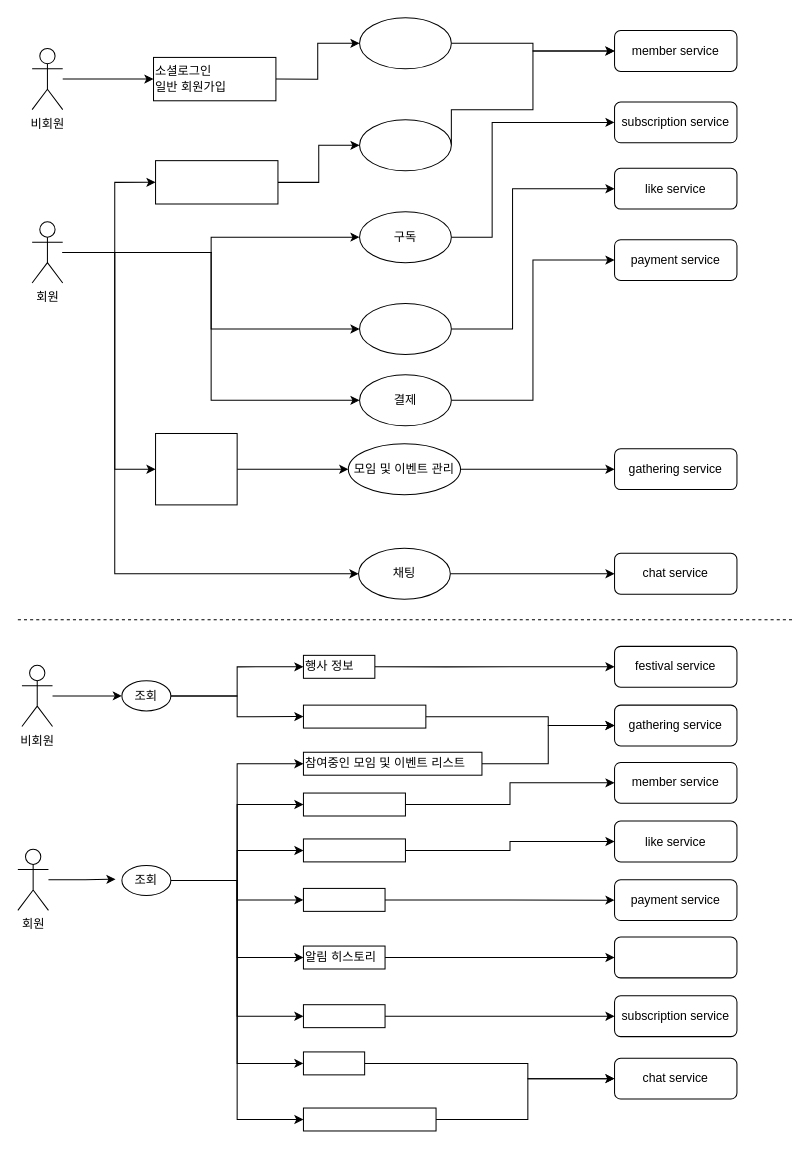
Image size: 812x1150. Some labels were removed from this diagram. Here are the shapes that lost their labels. From the top down, the centre of each, then its label:
At [405,43]: "회원가입".
At [405,145]: "회원관리".
At [216,182]: "로그인 회원정보 수정".
At [405,328]: "좋아요".
At [196,468]: "개설 수정 신청 승인/거절".
At [364,716]: "모임 및 이벤트 정보".
At [353,804]: "본인 회원 정보".
At [353,850]: "좋아요 히스토리".
At [343,899]: "결제 히스토리".
At [675,957]: "notification service".
At [343,1016]: "구독 리스트".
At [333,1063]: "채팅 기록".
At [369,1119]: "참여중인 채팅 리스트".
